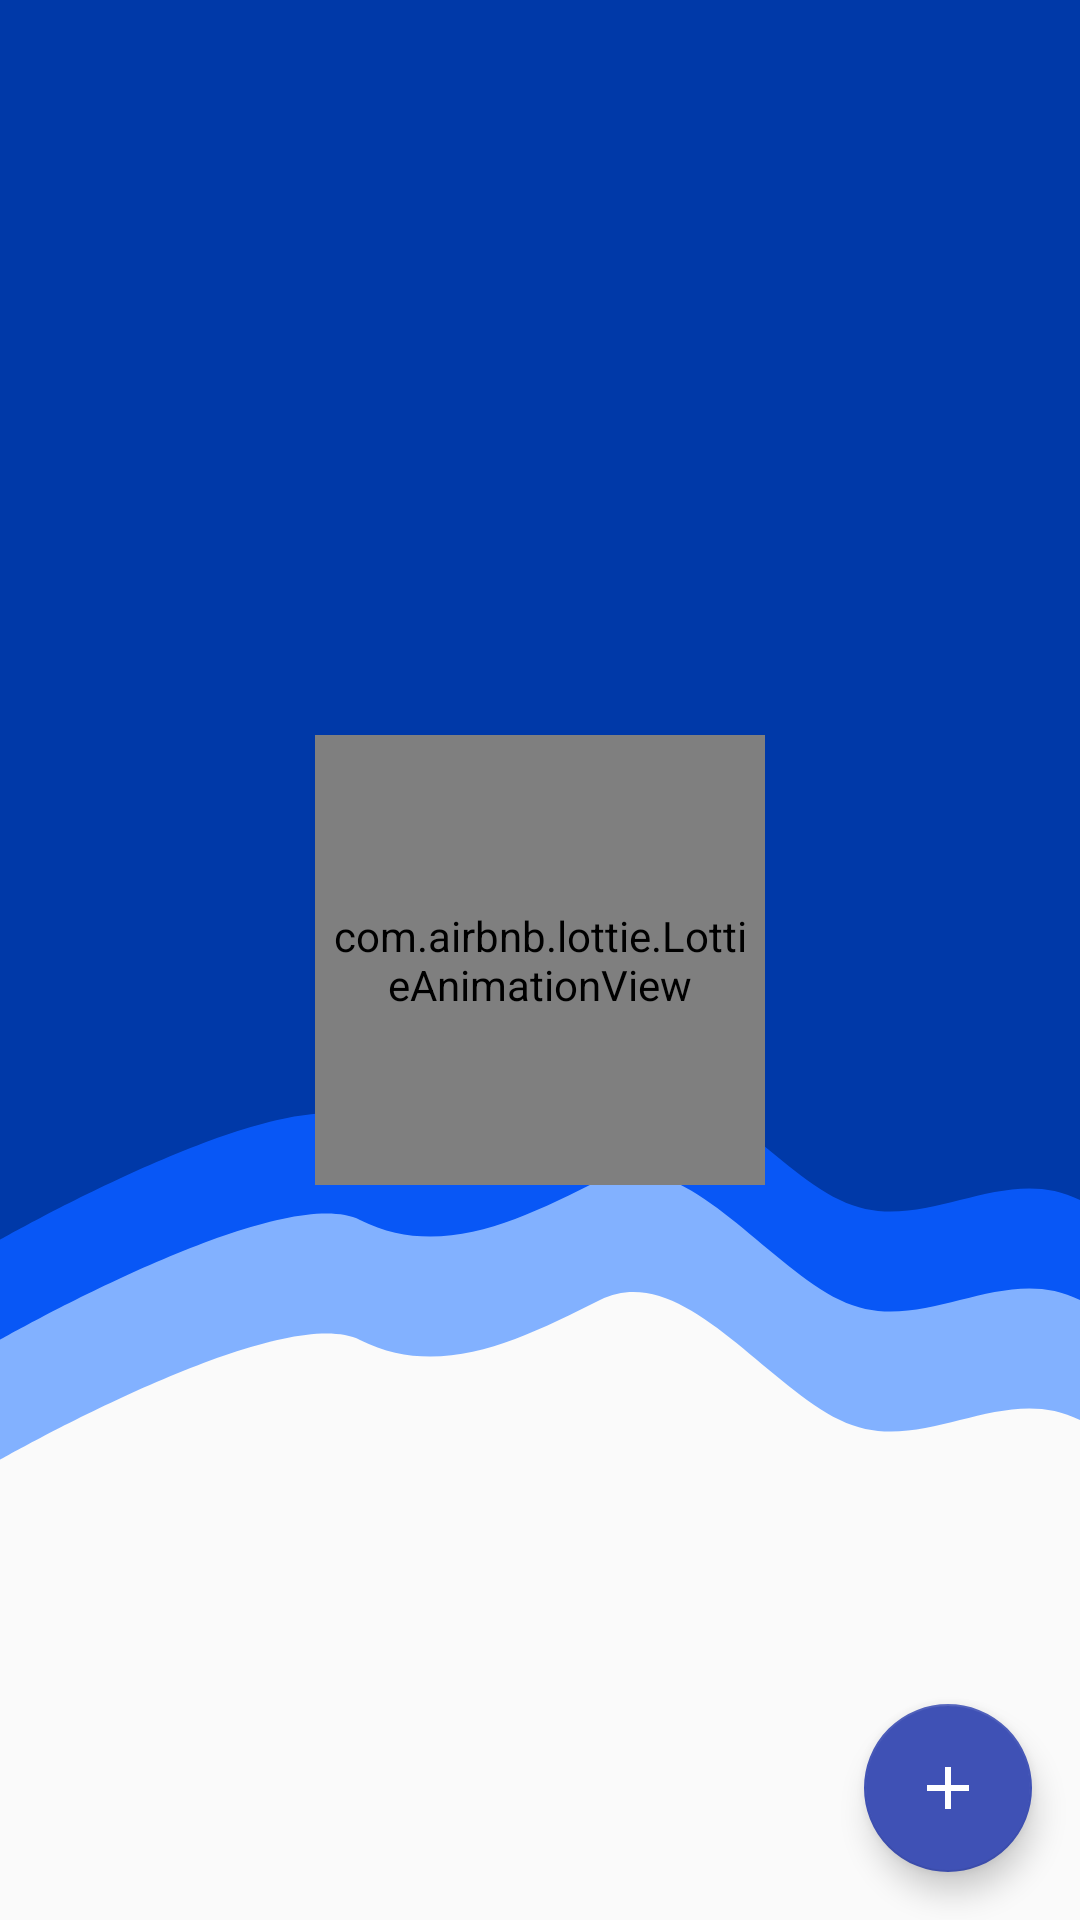

Named icons in this screenshot (1080w x 1920h) and their bounding boxes, (x1, y1, x2, y2):
Add new class: (864, 1704, 1032, 1872)
